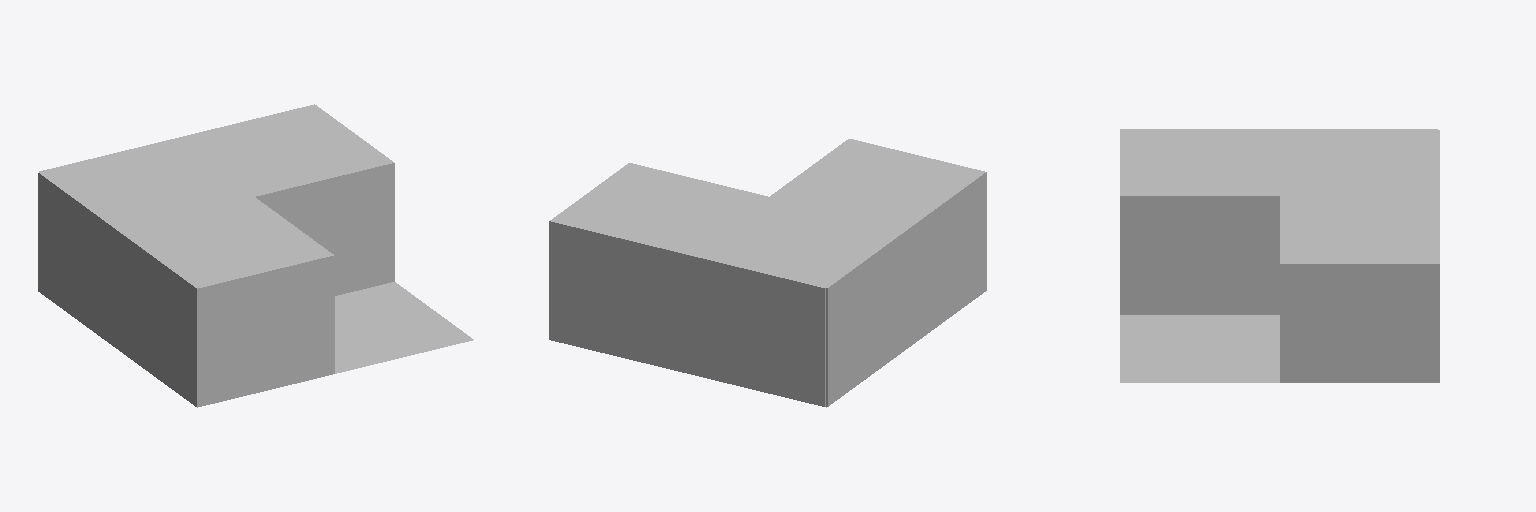
The picture shows the model from 3 angles: view 1: azimuth 30°, elevation 25°; view 2: azimuth 150°, elevation 25°; view 3: azimuth 270°, elevation 25°; orthographic projection.
Parts seen in each view (by area): view 1: Poignee_47; view 2: Poignee_47; view 3: Poignee_47.
Boxes of the visible parts, x1=… form: Poignee_47: x1=38, y1=104, x2=473, y2=407; Poignee_47: x1=549, y1=139, x2=986, y2=407; Poignee_47: x1=1120, y1=129, x2=1439, y2=382.
Bounding box in the file's own units: 13.35 × 5.46 × 13.3.